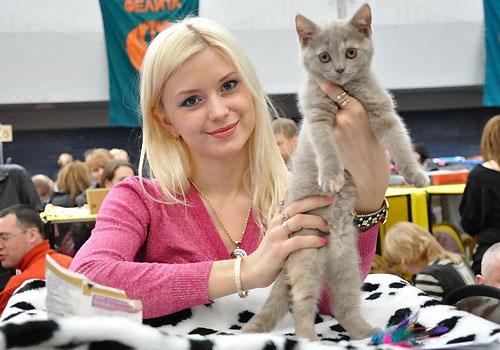cat: (283, 2, 433, 317)
person: (76, 16, 329, 325), (51, 154, 89, 200), (95, 153, 129, 194)
